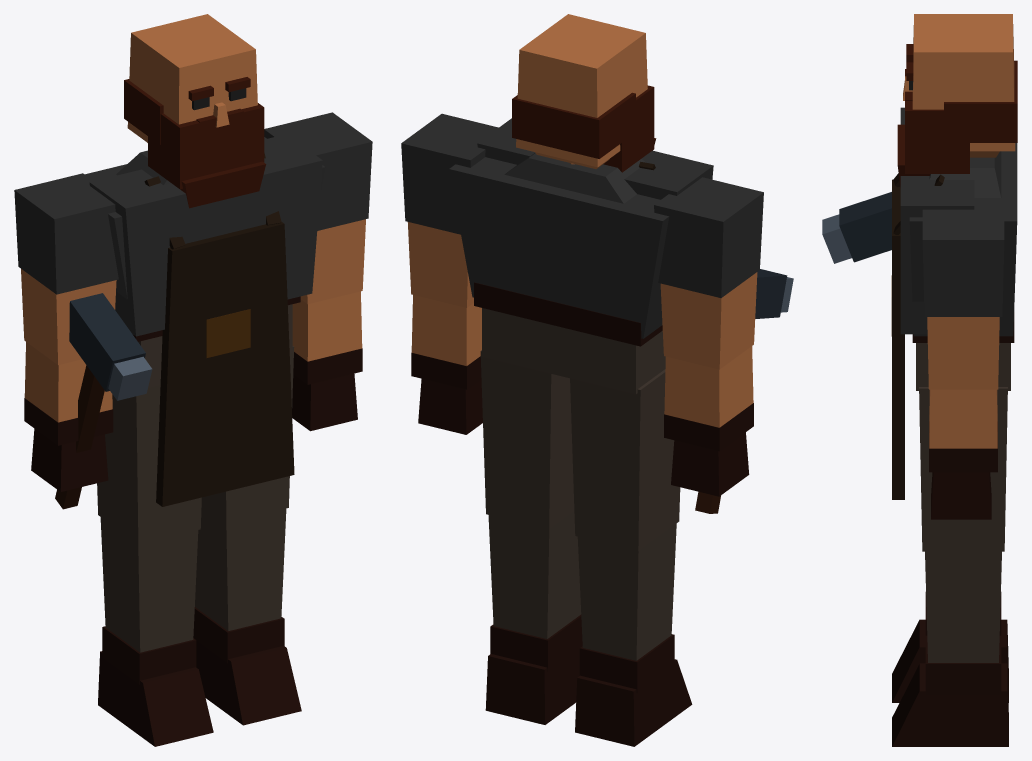
File: FerreiroBram.fbx
The picture shows the model from 3 angles, left to right: view 1: azimuth 30°, elevation 25°; view 2: azimuth 150°, elevation 25°; view 3: azimuth 270°, elevation 25°; orthographic projection. The views are drawn at different scales.
Visible parts, largest first — view 1: Body, ArmR, LegR, Head, LegL, ArmL; view 2: Body, LegR, LegL, ArmR, ArmL, Head; view 3: LegL, ArmL, Head, Body, ArmR, LegR.
Boxes of the visible parts, <box> form: Body: <box>85,134,325,506</box>; ArmR: <box>14,173,152,509</box>; LegR: <box>97,385,213,746</box>; Head: <box>124,14,266,208</box>; LegL: <box>193,346,301,725</box>; ArmL: <box>264,112,372,431</box>; Body: <box>449,118,713,394</box>; LegR: <box>570,369,692,746</box>; LegL: <box>480,350,582,724</box>; ArmR: <box>654,177,793,513</box>; ArmL: <box>401,113,498,434</box>; Head: <box>512,14,656,172</box>; LegL: <box>892,387,1008,746</box>; ArmL: <box>922,206,1004,519</box>; Head: <box>897,14,1017,187</box>; Body: <box>891,107,1017,499</box>; ArmR: <box>822,192,891,263</box>; LegR: <box>892,592,1008,702</box>.
Bounding box in the file's own units: 0.9537 × 1.9 × 0.496.
